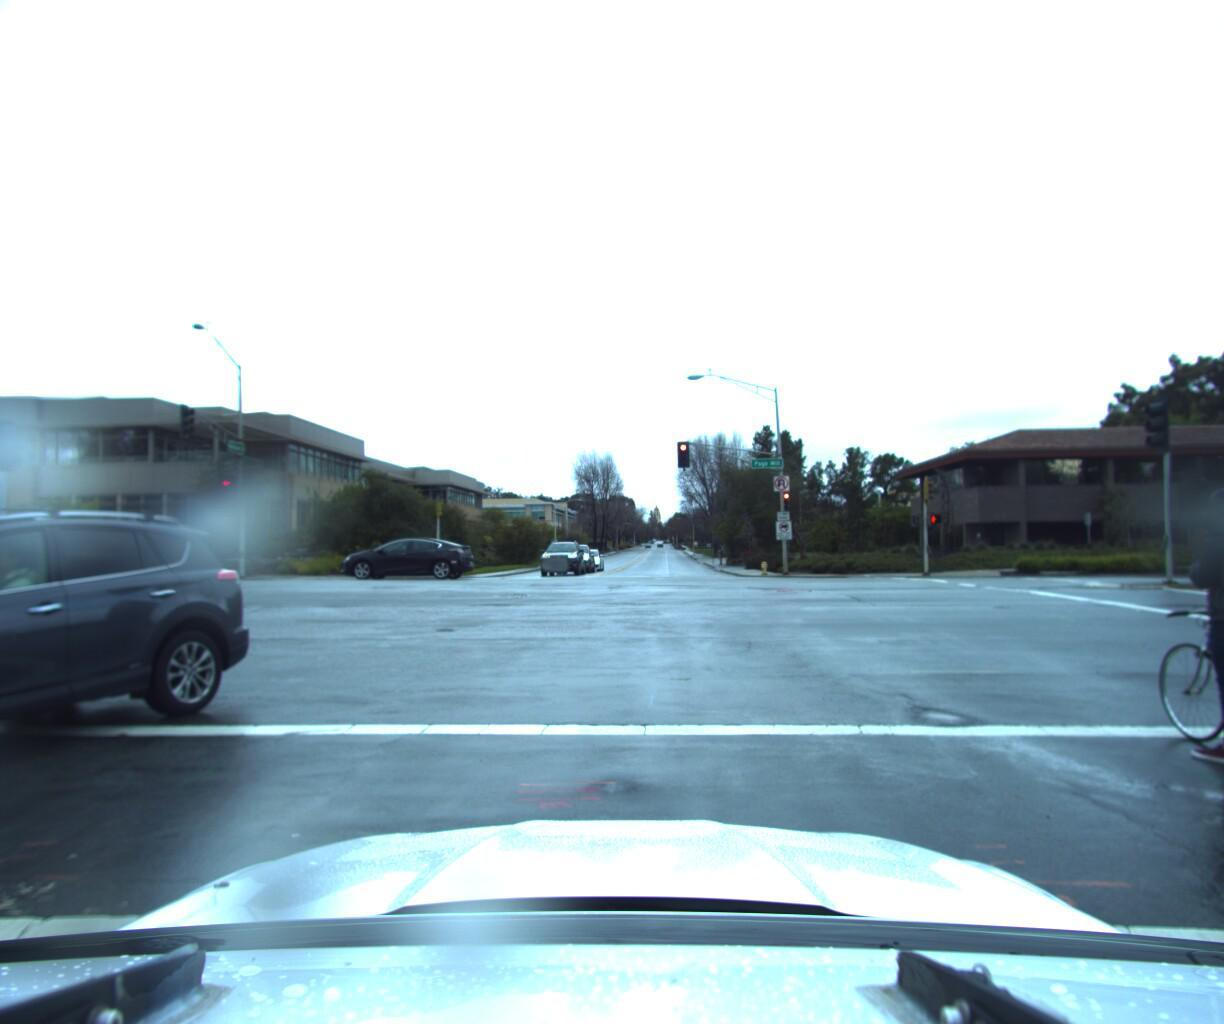bicycle: (1098, 466, 1224, 795)
car: (0, 487, 260, 937), (330, 536, 479, 580), (537, 538, 588, 575), (553, 541, 595, 574), (570, 545, 604, 569), (0, 516, 4, 594)
